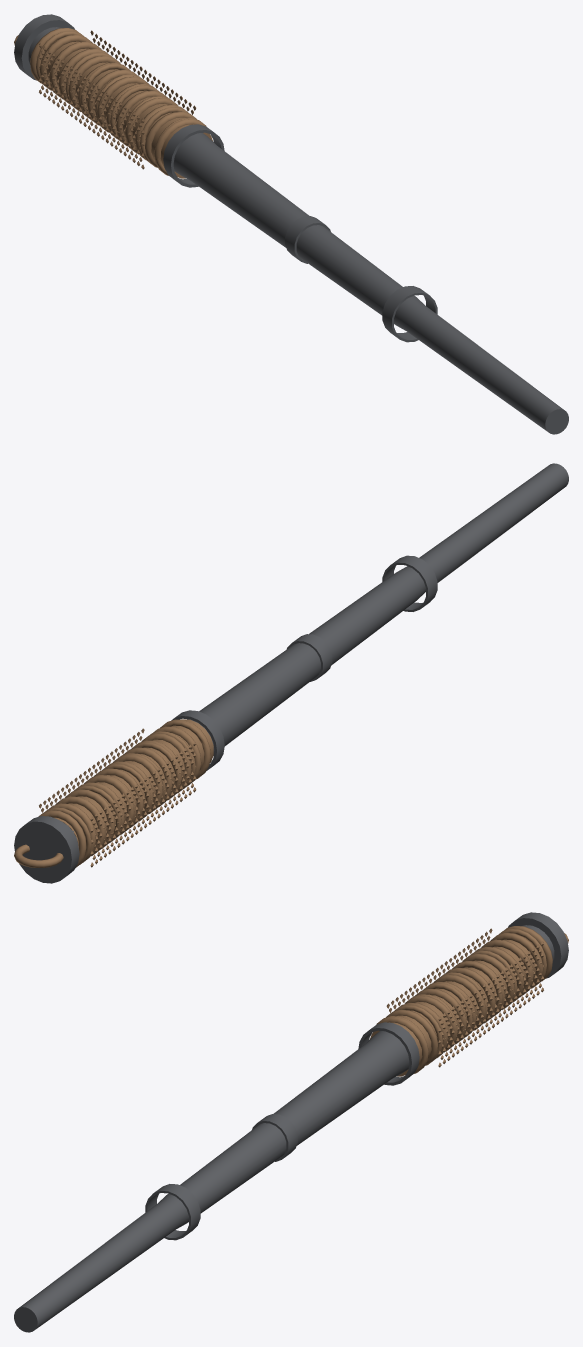
File: telescopic-baton.glb
The picture shows the model from 3 angles, top to bottom: view 1: azimuth 30°, elevation 25°; view 2: azimuth 150°, elevation 25°; view 3: azimuth 330°, elevation 25°; orthographic projection.
Parts seen in each view (by area): view 1: telescopic-baton; view 2: telescopic-baton; view 3: telescopic-baton.
Boxes of the visible parts, x1=… form: telescopic-baton: x1=14, y1=14, x2=568, y2=434; telescopic-baton: x1=14, y1=463, x2=568, y2=883; telescopic-baton: x1=14, y1=912, x2=568, y2=1332.
Size of the model in its own units: 0.035 by 0.035 by 0.5551.
